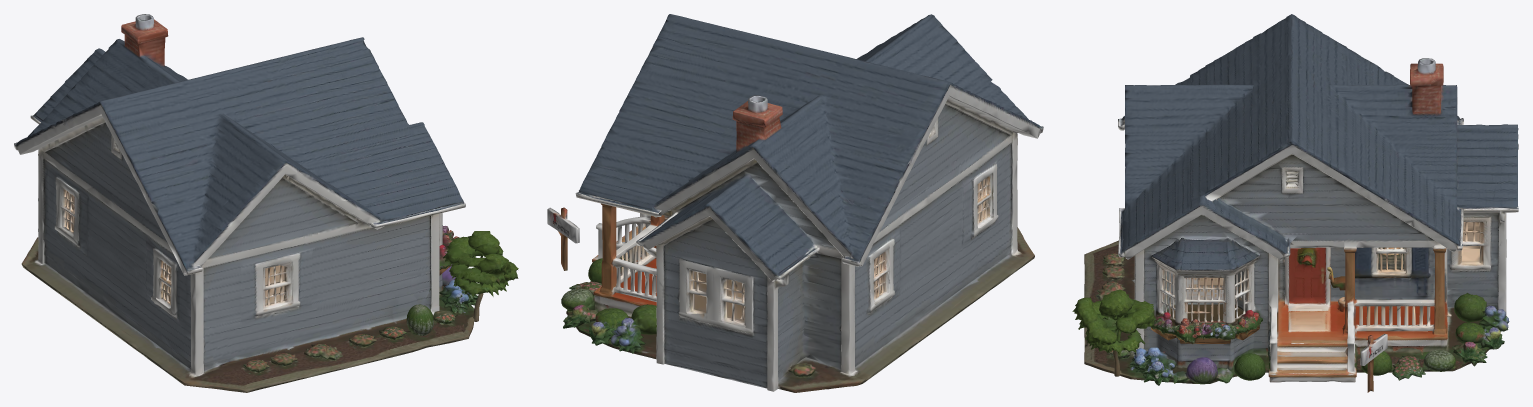
Rendered from house_1storyB_grey.glb.
3 views of the same model, side by side, from view 1: azimuth 30°, elevation 25°; view 2: azimuth 150°, elevation 25°; view 3: azimuth 270°, elevation 25° (orthographic). The views are drawn at different scales.
Visible parts, largest first — view 1: tripo_node_e11dd44d-a258-485b-b16b-9bea9a027b91; view 2: tripo_node_e11dd44d-a258-485b-b16b-9bea9a027b91; view 3: tripo_node_e11dd44d-a258-485b-b16b-9bea9a027b91.
Boxes of the visible parts, <box> form: tripo_node_e11dd44d-a258-485b-b16b-9bea9a027b91: <box>14,14,518,392</box>; tripo_node_e11dd44d-a258-485b-b16b-9bea9a027b91: <box>547,14,1043,392</box>; tripo_node_e11dd44d-a258-485b-b16b-9bea9a027b91: <box>1072,14,1518,392</box>.
Bounding box in the file's own units: 0.8752 × 0.5677 × 1.
Materials: 1 (1 with a texture image).
